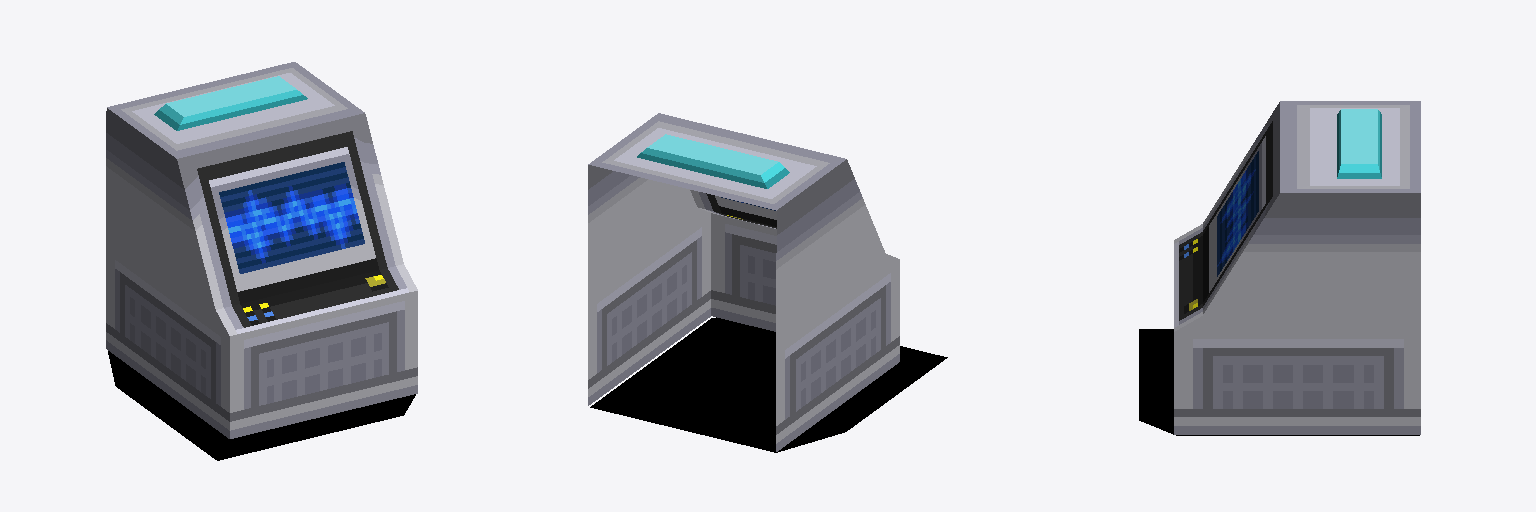
3 views of the same model, side by side, from view 1: azimuth 30°, elevation 25°; view 2: azimuth 150°, elevation 25°; view 3: azimuth 270°, elevation 25° (orthographic).
Visible parts, largest first — view 1: polygon0, polygon1, polygon2; view 2: polygon0, polygon2; view 3: polygon0, polygon2, polygon1.
Part boxes in pixels (left/top/right/bottom): polygon0: left=106, top=62, right=417, bottom=438; polygon1: left=219, top=162, right=364, bottom=273; polygon2: left=108, top=351, right=415, bottom=460; polygon0: left=588, top=113, right=899, bottom=451; polygon2: left=590, top=317, right=947, bottom=452; polygon0: left=1174, top=101, right=1420, bottom=434; polygon2: left=1139, top=329, right=1419, bottom=435; polygon1: left=1217, top=151, right=1258, bottom=276.
Size of the model in its own units: 3.48 by 3.85 by 3.9.
Materials: 3 (2 with a texture image).